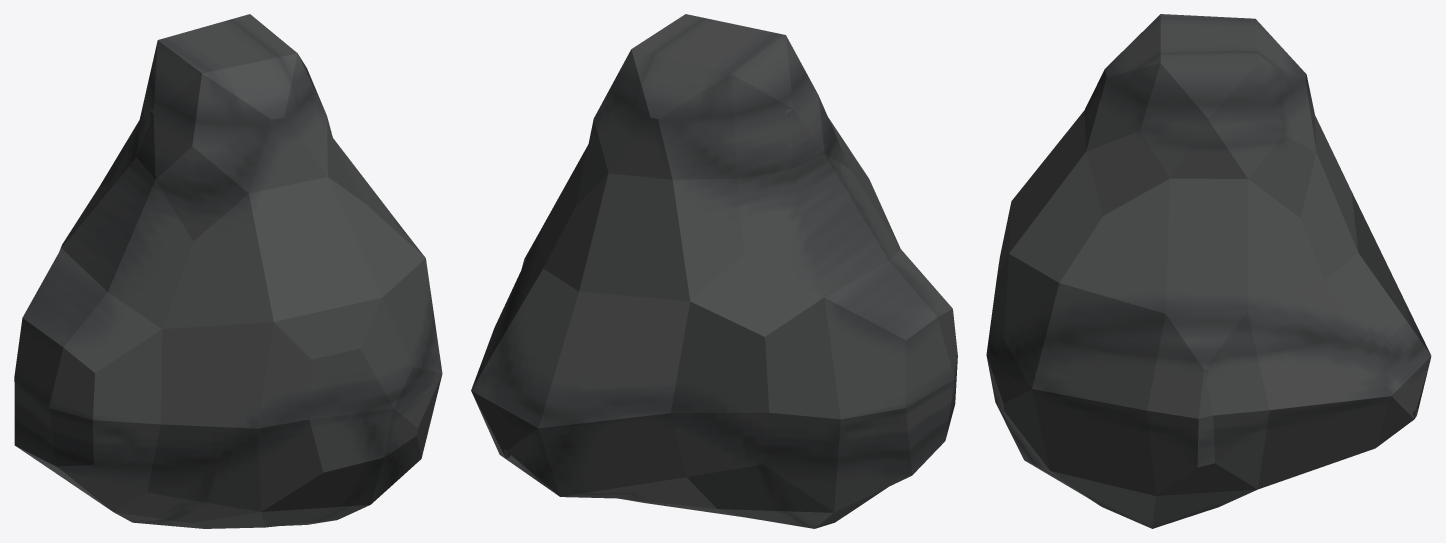
File: Projectile_Rock_2_L.fbx
3 renders of one model, left to right at view 1: azimuth 30°, elevation 25°; view 2: azimuth 150°, elevation 25°; view 3: azimuth 270°, elevation 25°, orthographic. The views are drawn at different scales.
Parts seen in each view (by area): view 1: rock_5_L; view 2: rock_5_L; view 3: rock_5_L.
Boxes of the visible parts, x1,y1,x2,y2 form: rock_5_L: (14,14,442,528); rock_5_L: (471,14,957,528); rock_5_L: (986,14,1431,528).
Bounding box in the file's own units: 88.03 × 99.94 × 86.72.
